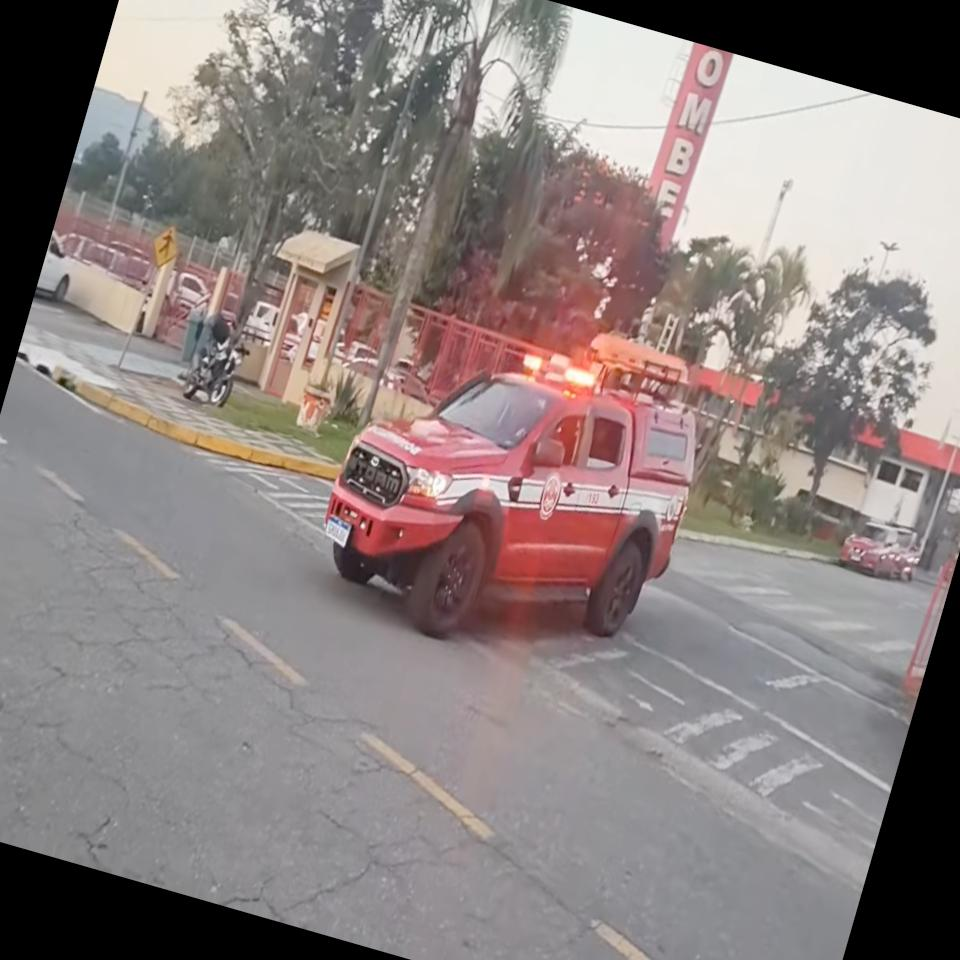viatura: (299, 311, 714, 695)
